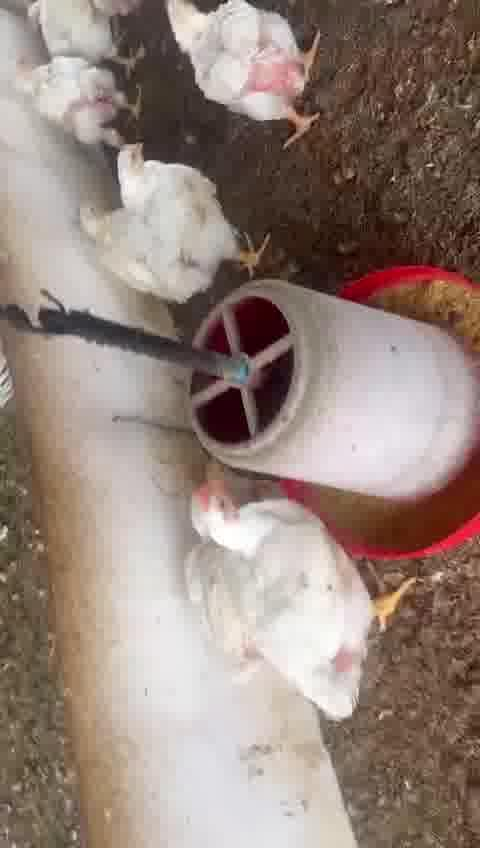Normal: (187, 484, 409, 716), (162, 0, 322, 149), (119, 147, 263, 270), (14, 59, 144, 144)
